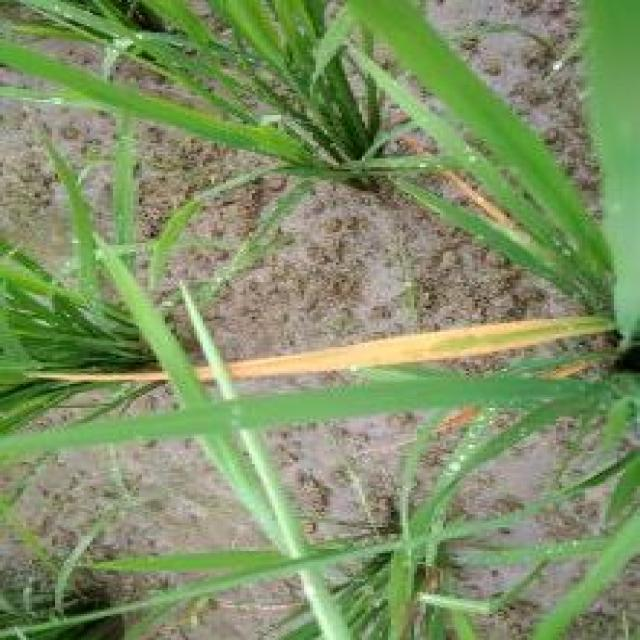Tungro: (153, 303, 609, 405)
